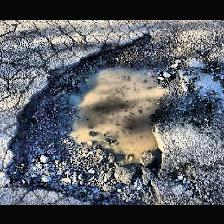pothole: (3, 32, 184, 204)
